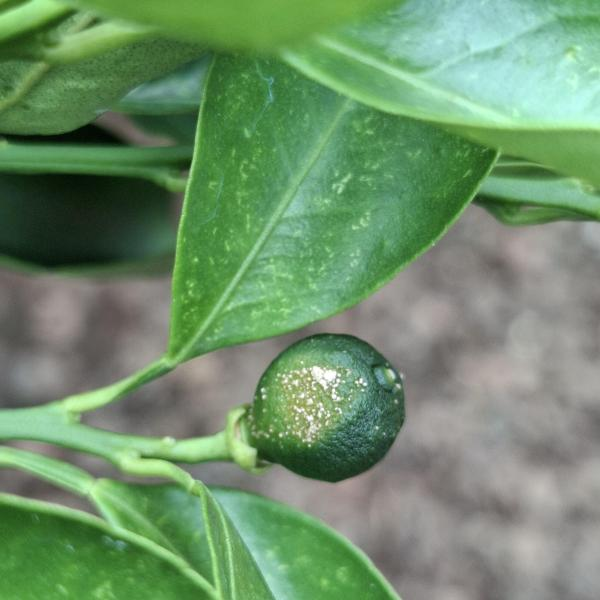Scab: (245, 323, 415, 497)
